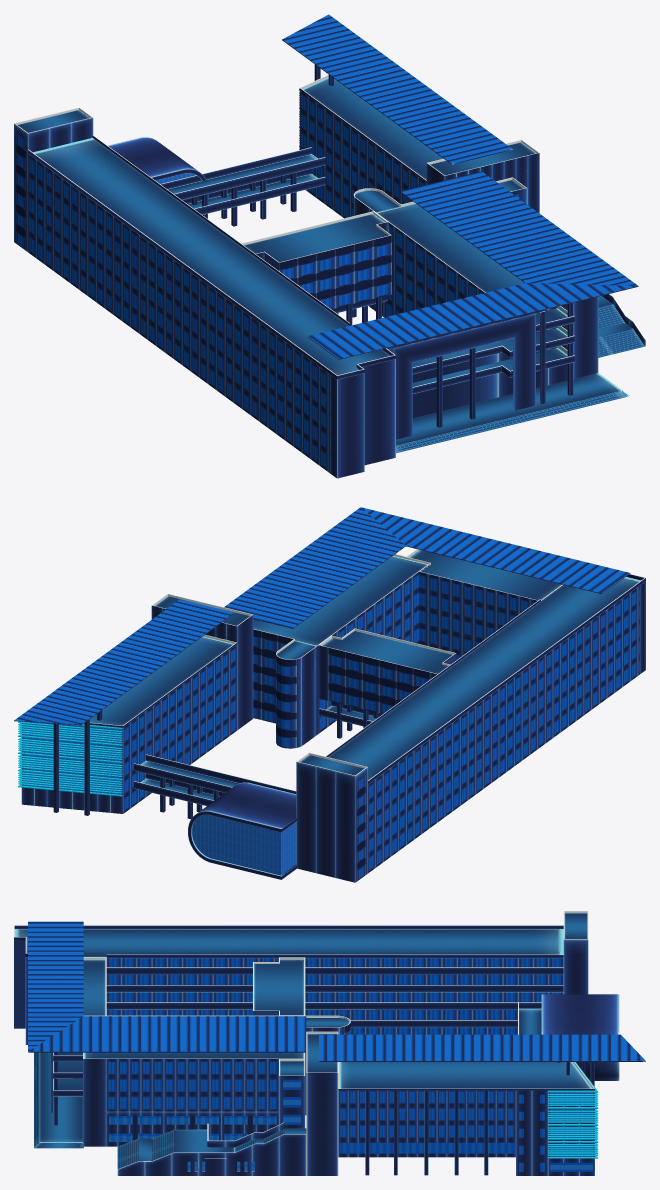
File: lou1.obj
3 renders of one model, top to bottom at view 1: azimuth 30°, elevation 25°; view 2: azimuth 150°, elevation 25°; view 3: azimuth 270°, elevation 25°, orthographic. The views are drawn at different scales.
Bounding box in the file's own units: 96.84 × 29.93 × 161.
